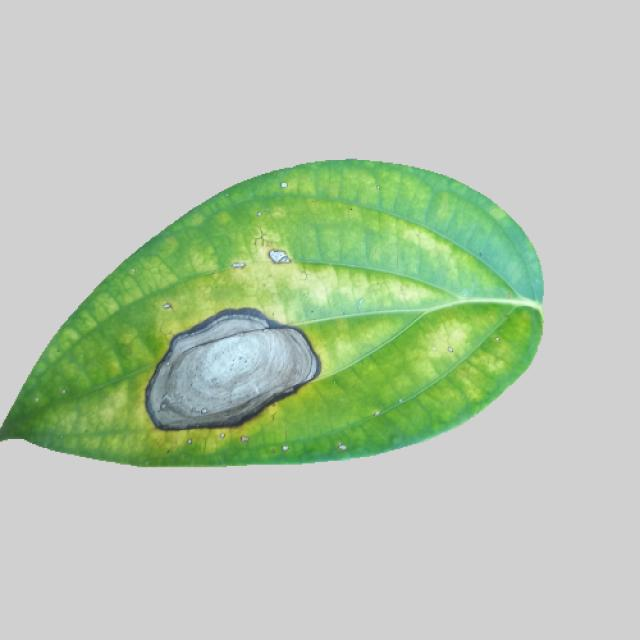leaf-blight: (0, 162, 557, 475)
